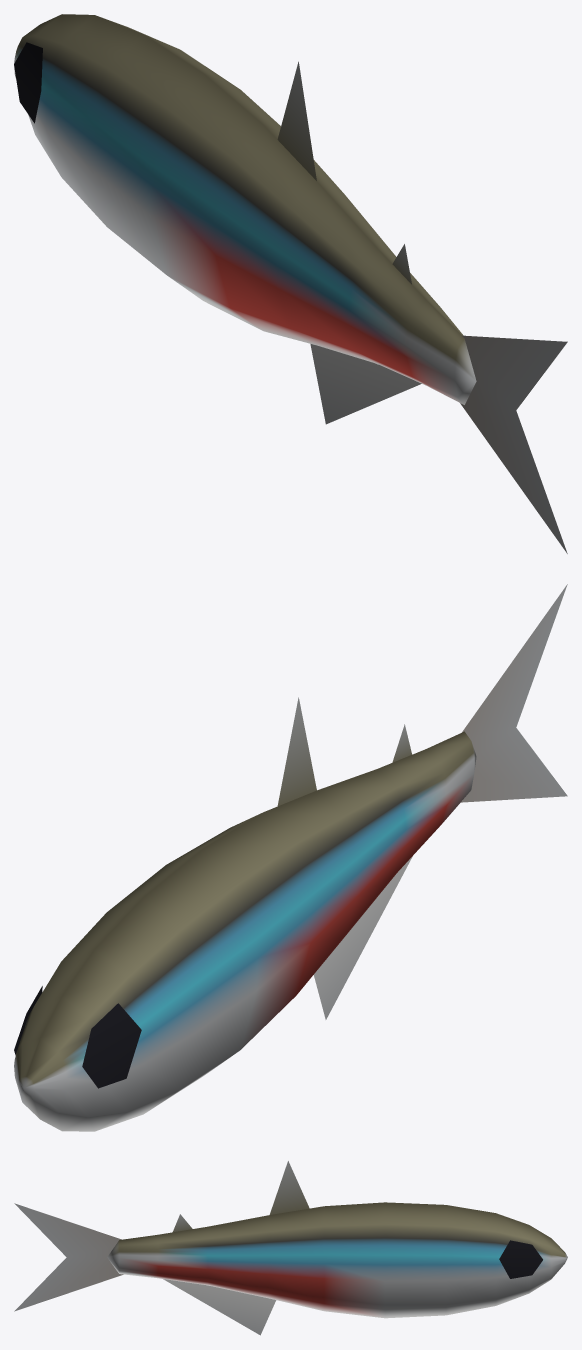
The model's file is neon_tetra_school.glb.
The picture shows the model from 3 angles, top to bottom: view 1: azimuth 30°, elevation 25°; view 2: azimuth 150°, elevation 25°; view 3: azimuth 270°, elevation 25°; orthographic projection. The views are drawn at different scales.
Visible parts, largest first — view 1: neon_tetra_school; view 2: neon_tetra_school; view 3: neon_tetra_school.
Part boxes in pixels (bbox=[...]): neon_tetra_school: bbox=[14, 14, 567, 553]; neon_tetra_school: bbox=[14, 584, 567, 1131]; neon_tetra_school: bbox=[14, 1161, 567, 1335].
Bounding box in the file's own units: 0.004 × 0.0122 × 0.035.
